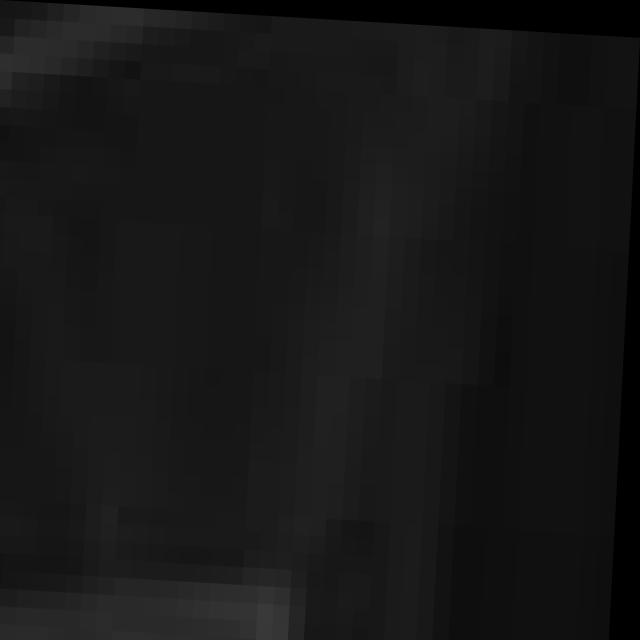fracture: (0, 21, 640, 640)
